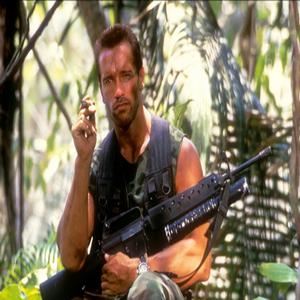cigarette: (81, 99, 97, 108)
